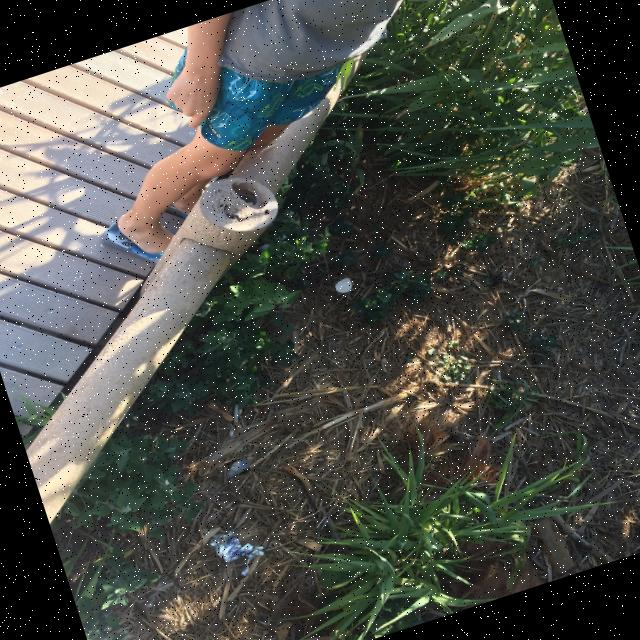Other plastic: (211, 531, 265, 575)
Plastic film: (228, 457, 250, 478)
Unlabeled litter: (336, 277, 353, 292)
